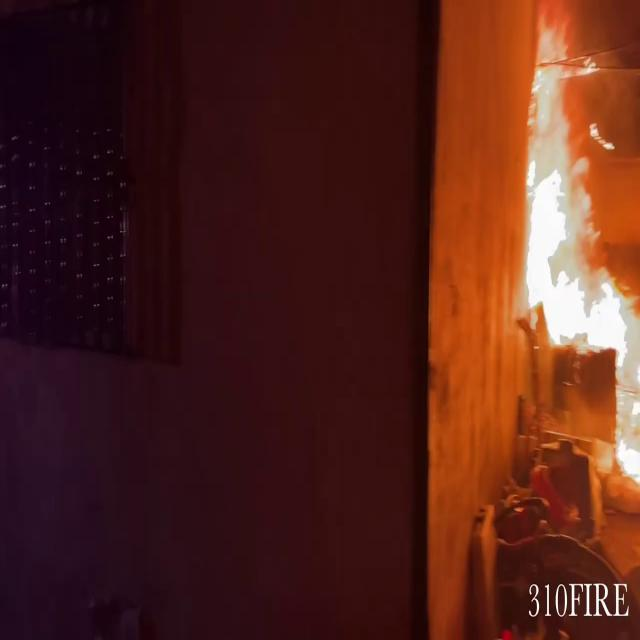Fire: (500, 4, 640, 488)
